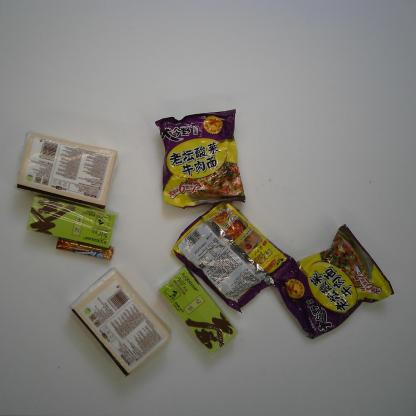Candy: (53, 235, 115, 262)
Instant Drink: (158, 265, 238, 356), (25, 196, 119, 248)
Instant Noodles: (272, 222, 394, 340), (170, 201, 297, 314), (154, 108, 247, 209)
Tissue: (69, 266, 172, 378), (17, 131, 118, 212)
